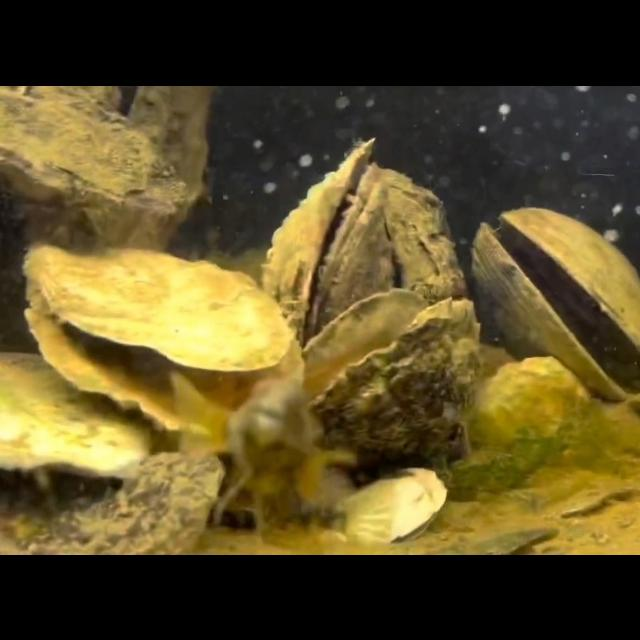Oyster-Closed: (0, 84, 188, 213), (0, 452, 226, 554), (432, 356, 590, 492), (0, 349, 154, 481), (377, 166, 467, 306)
Oyster-Open: (22, 241, 304, 435), (292, 289, 482, 469), (470, 206, 640, 402), (49, 85, 213, 262), (258, 137, 396, 347), (344, 467, 448, 547)
